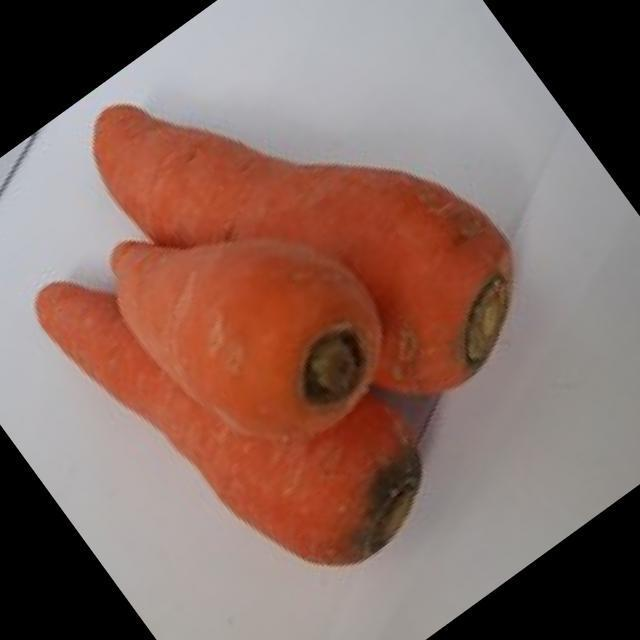carrot: (94, 105, 510, 392), (38, 284, 421, 564), (112, 240, 381, 436)
